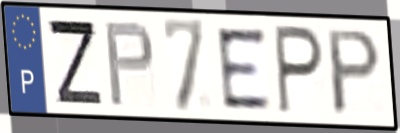7: (161, 16, 209, 117)
E: (213, 26, 275, 112)
P: (326, 27, 384, 118), (272, 22, 326, 119), (102, 19, 157, 109)
Z: (44, 16, 106, 108)
